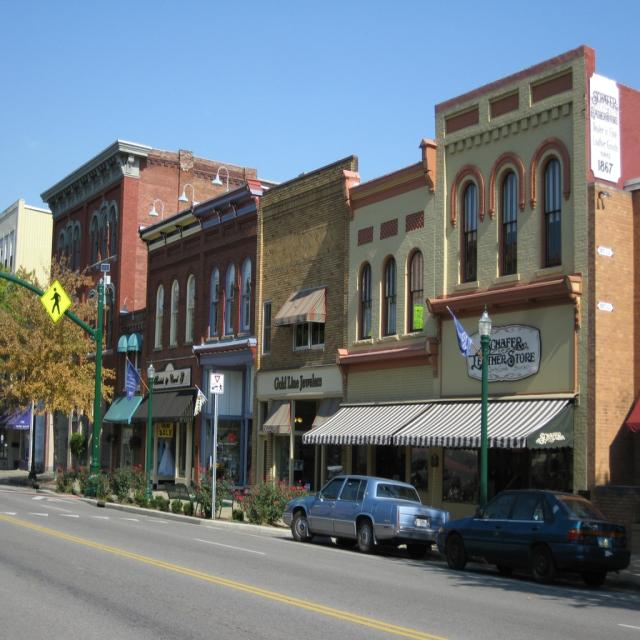car: (432, 487, 626, 577)
